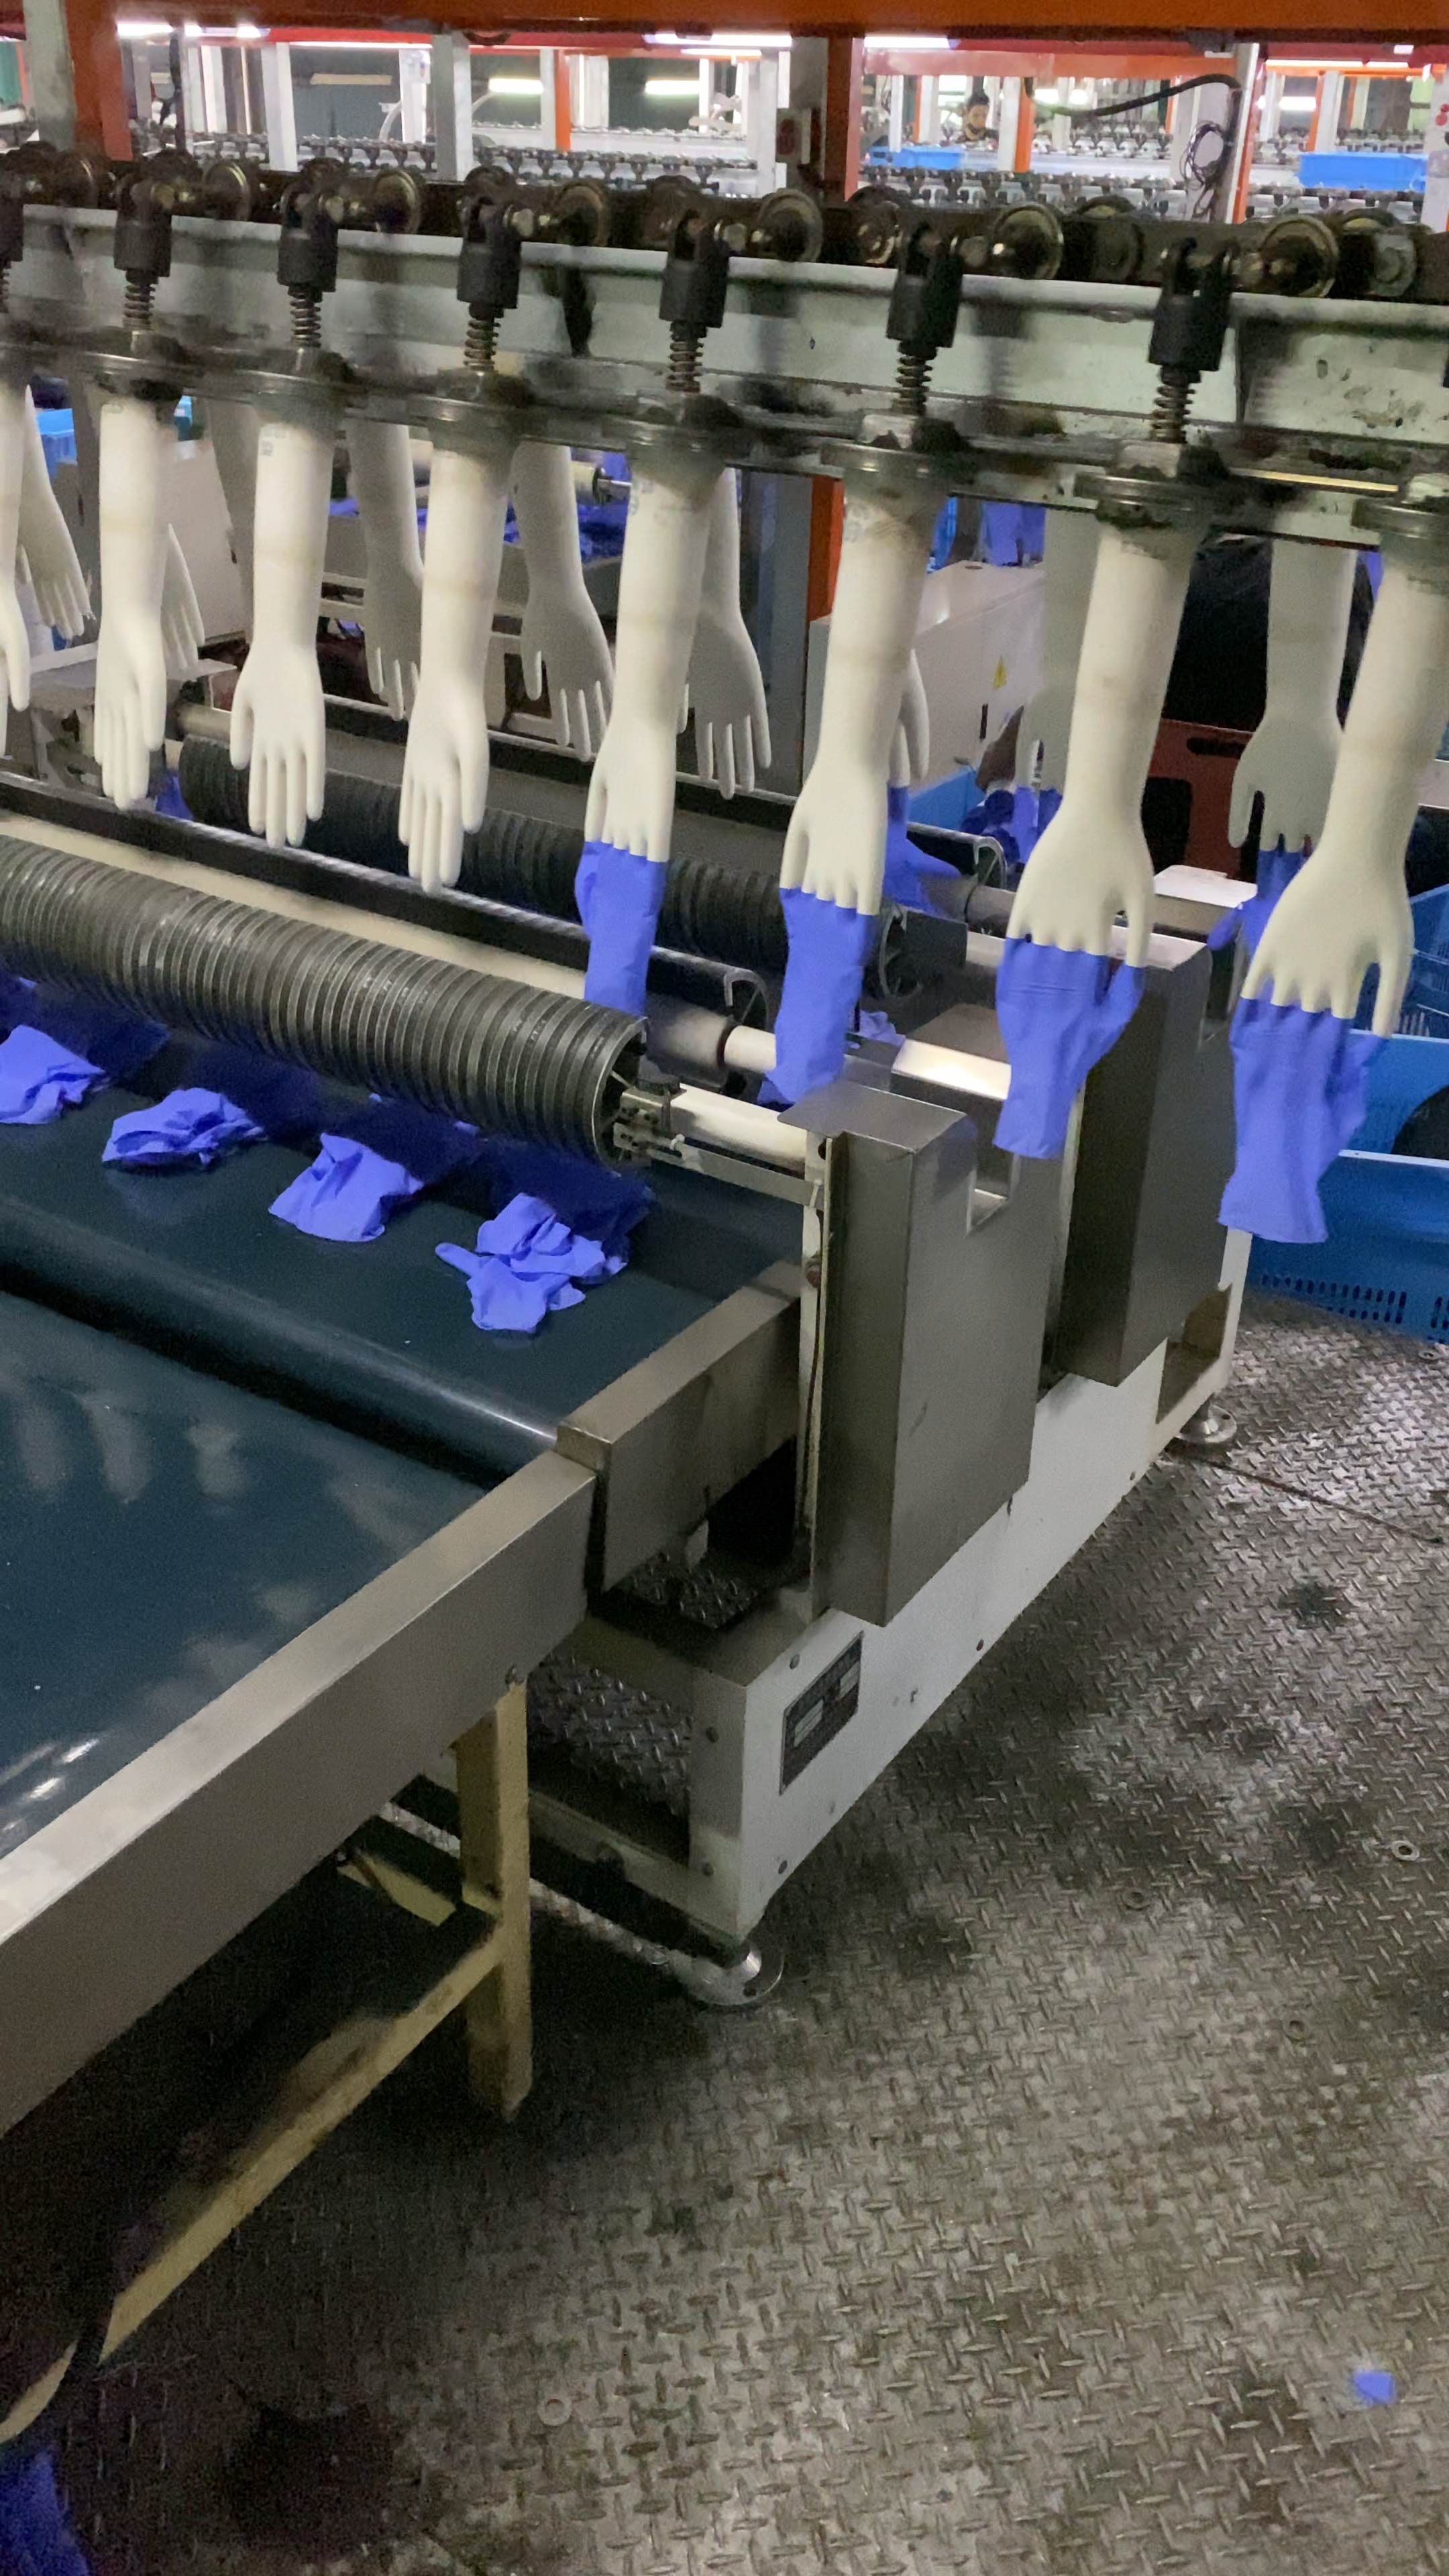glove: (1215, 998, 1385, 1246), (435, 1155, 649, 1334), (993, 938, 1143, 1162), (267, 1092, 481, 1240), (103, 1042, 318, 1166), (755, 890, 878, 1102), (0, 1005, 170, 1123), (575, 840, 665, 1017)
